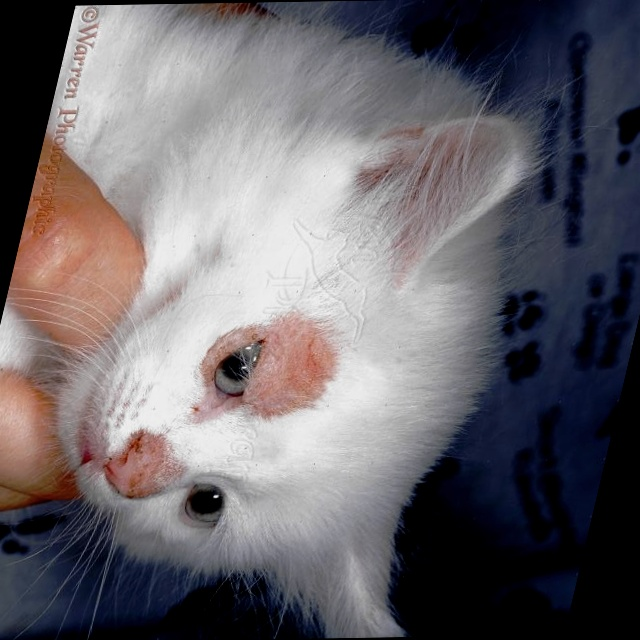ringworm: (248, 332, 337, 415)
